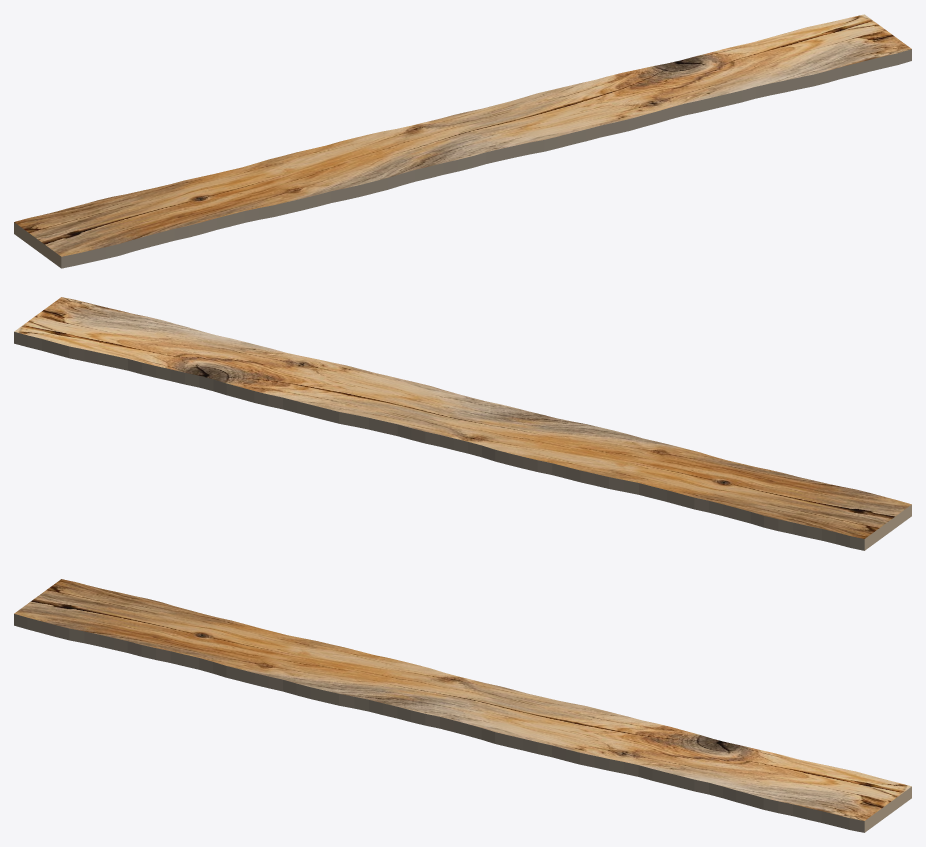
3 views of the same model, one above another, from view 1: azimuth 30°, elevation 25°; view 2: azimuth 150°, elevation 25°; view 3: azimuth 330°, elevation 25° (orthographic).
Visible parts, largest first — view 1: PD-001; view 2: PD-001; view 3: PD-001.
Part boxes in pixels (x1=…): PD-001: x1=14, y1=14, x2=911, y2=268; PD-001: x1=14, y1=297, x2=911, y2=550; PD-001: x1=14, y1=579, x2=911, y2=832.
Size of the model in its own units: 3 by 0.04 by 0.3069.
3 materials, 1 textured.
